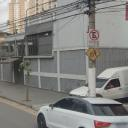NoEstacionar: (88, 27, 100, 42)
